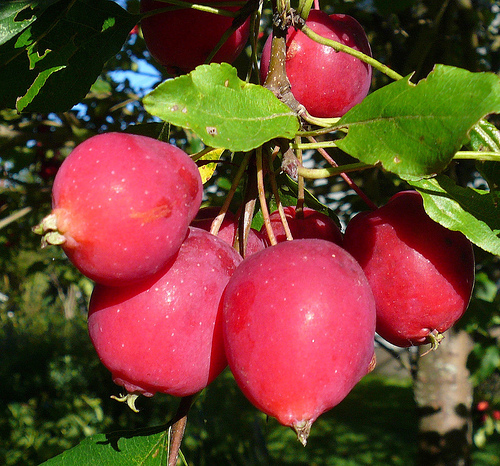apple: (214, 231, 381, 455), (41, 129, 211, 286), (333, 181, 478, 356)
